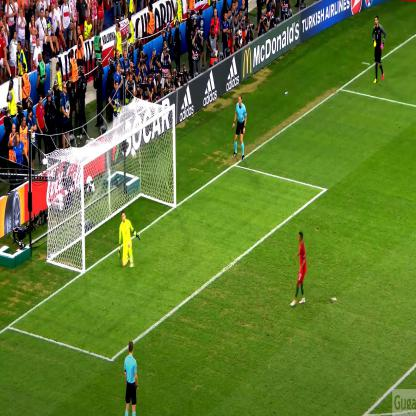goal: (43, 108, 159, 294)
